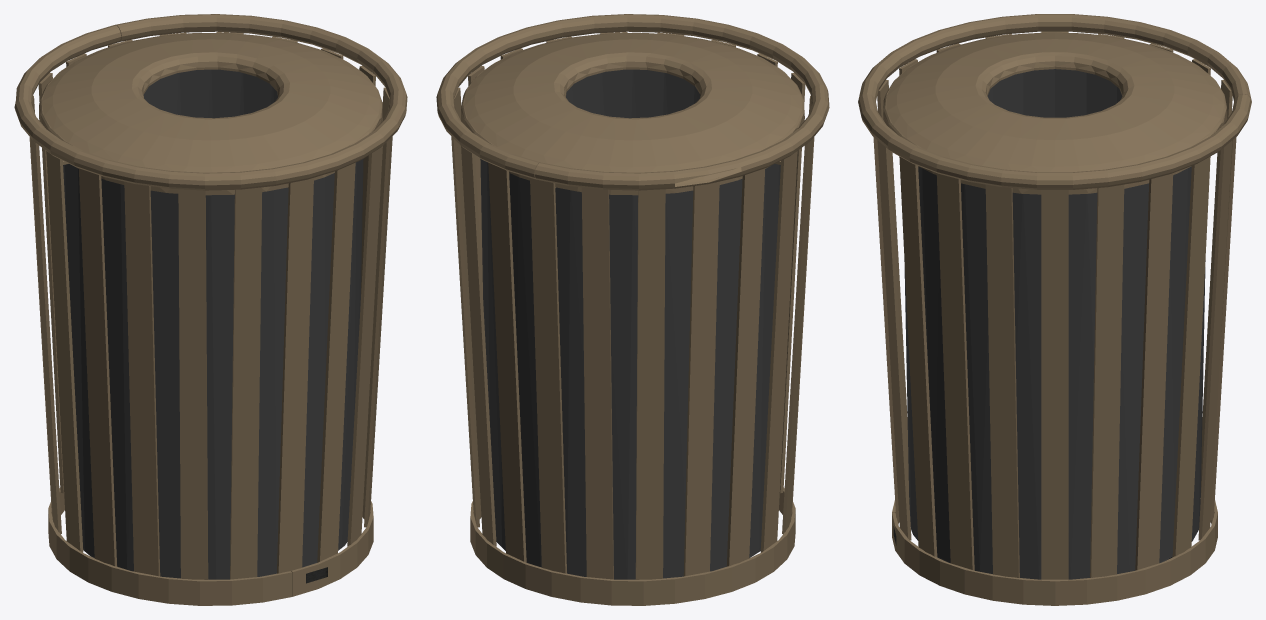
3 views of the same model, side by side, from view 1: azimuth 30°, elevation 25°; view 2: azimuth 150°, elevation 25°; view 3: azimuth 270°, elevation 25° (orthographic).
Parts seen in each view (by area): view 1: mesh3.002_mesh3-geometry, mesh71.002_mesh71-geometry, mesh54.002_mesh54-geometry, mesh1.027_mesh1-geometry, mesh1.025_mesh1-geometry, mesh1.028_mesh1-geometry, mesh1.033_mesh1-geometry, mesh55.002_mesh55-geometry, mesh1.029_mesh1-geometry, mesh1.022_mesh1-geometry, mesh1.035_mesh1-geometry, mesh1.032_mesh1-geometry (+6 smaller); view 2: mesh3.002_mesh3-geometry, mesh71.002_mesh71-geometry, mesh54.002_mesh54-geometry, mesh1.039_mesh1-geometry, mesh1.030_mesh1-geometry, mesh1.037_mesh1-geometry, mesh1.024_mesh1-geometry, mesh55.002_mesh55-geometry, mesh1.041_mesh1-geometry, mesh1.042_mesh1-geometry, mesh1.035_mesh1-geometry, mesh1.038_mesh1-geometry (+6 smaller); view 3: mesh3.002_mesh3-geometry, mesh71.002_mesh71-geometry, mesh54.002_mesh54-geometry, mesh1.026_mesh1-geometry, mesh1.034_mesh1-geometry, mesh1.036_mesh1-geometry, mesh1.040_mesh1-geometry, mesh1.031_mesh1-geometry, mesh55.002_mesh55-geometry, mesh1.032_mesh1-geometry, mesh1.038_mesh1-geometry, mesh1.022_mesh1-geometry (+5 smaller).
Part boxes in pixels (left/top/right/bottom): mesh3.002_mesh3-geometry: left=63, top=69, right=363, bottom=579; mesh71.002_mesh71-geometry: left=39, top=33, right=382, bottom=195; mesh54.002_mesh54-geometry: left=14, top=14, right=407, bottom=190; mesh1.027_mesh1-geometry: left=178, top=189, right=208, bottom=579; mesh1.025_mesh1-geometry: left=230, top=187, right=262, bottom=579; mesh1.028_mesh1-geometry: left=124, top=181, right=160, bottom=576; mesh1.033_mesh1-geometry: left=277, top=178, right=313, bottom=573; mesh55.002_mesh55-geometry: left=48, top=487, right=373, bottom=605; mesh1.029_mesh1-geometry: left=79, top=168, right=117, bottom=566; mesh1.022_mesh1-geometry: left=317, top=162, right=355, bottom=562; mesh1.035_mesh1-geometry: left=46, top=151, right=83, bottom=552; mesh1.032_mesh1-geometry: left=347, top=146, right=382, bottom=546; mesh3.002_mesh3-geometry: left=480, top=69, right=780, bottom=579; mesh71.002_mesh71-geometry: left=461, top=32, right=804, bottom=195; mesh54.002_mesh54-geometry: left=436, top=14, right=829, bottom=190; mesh1.039_mesh1-geometry: left=635, top=189, right=665, bottom=579; mesh1.030_mesh1-geometry: left=581, top=187, right=613, bottom=579; mesh1.037_mesh1-geometry: left=683, top=177, right=719, bottom=576; mesh1.024_mesh1-geometry: left=530, top=178, right=566, bottom=573; mesh55.002_mesh55-geometry: left=470, top=487, right=795, bottom=605; mesh1.041_mesh1-geometry: left=726, top=168, right=764, bottom=566; mesh1.042_mesh1-geometry: left=488, top=162, right=526, bottom=562; mesh1.035_mesh1-geometry: left=760, top=151, right=797, bottom=552; mesh1.038_mesh1-geometry: left=461, top=146, right=496, bottom=546; mesh3.002_mesh3-geometry: left=904, top=69, right=1205, bottom=579; mesh71.002_mesh71-geometry: left=883, top=32, right=1227, bottom=194; mesh54.002_mesh54-geometry: left=858, top=14, right=1251, bottom=189; mesh1.026_mesh1-geometry: left=1041, top=190, right=1068, bottom=579; mesh1.034_mesh1-geometry: left=985, top=184, right=1019, bottom=577; mesh1.036_mesh1-geometry: left=1090, top=184, right=1124, bottom=577; mesh1.040_mesh1-geometry: left=1135, top=173, right=1173, bottom=570; mesh1.031_mesh1-geometry: left=936, top=173, right=974, bottom=570; mesh55.002_mesh55-geometry: left=892, top=492, right=1217, bottom=605; mesh1.032_mesh1-geometry: left=899, top=156, right=937, bottom=556; mesh1.038_mesh1-geometry: left=1172, top=156, right=1210, bottom=556; mesh1.022_mesh1-geometry: left=877, top=141, right=911, bottom=540.
Bounding box in the file's own units: 0.5254 × 0.6674 × 0.5277.
